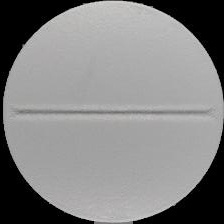61786-128: (0, 0, 224, 224)
